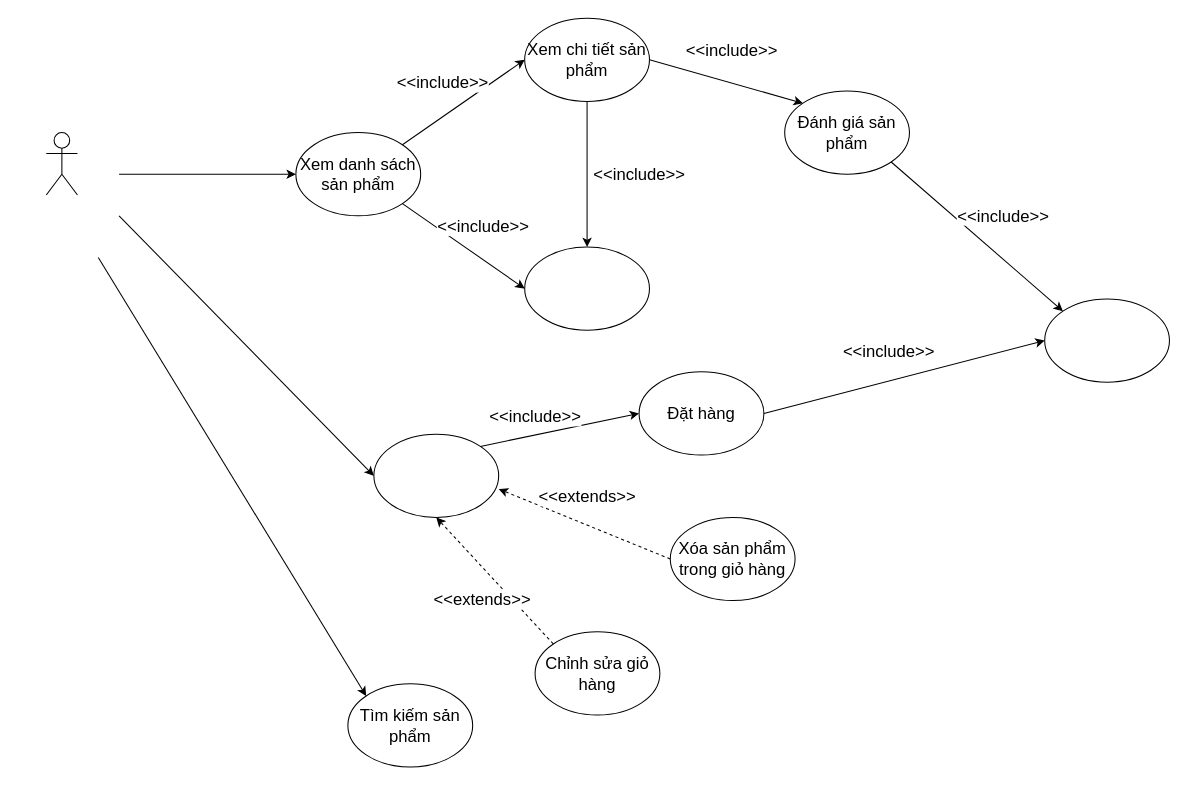
The diagram is 1188 pixels wide and 785 high, and some of its shapes have lost their labels. The centre of each missing label's shape, as x and y in pixels:
"Khách hàng" goes at (x=61, y=163).
"Thêm sản phẩm vào giỏ" goes at (x=586, y=288).
"Xem giỏ hàng" goes at (x=436, y=475).
"Đăng nhập" goes at (x=1106, y=340).
